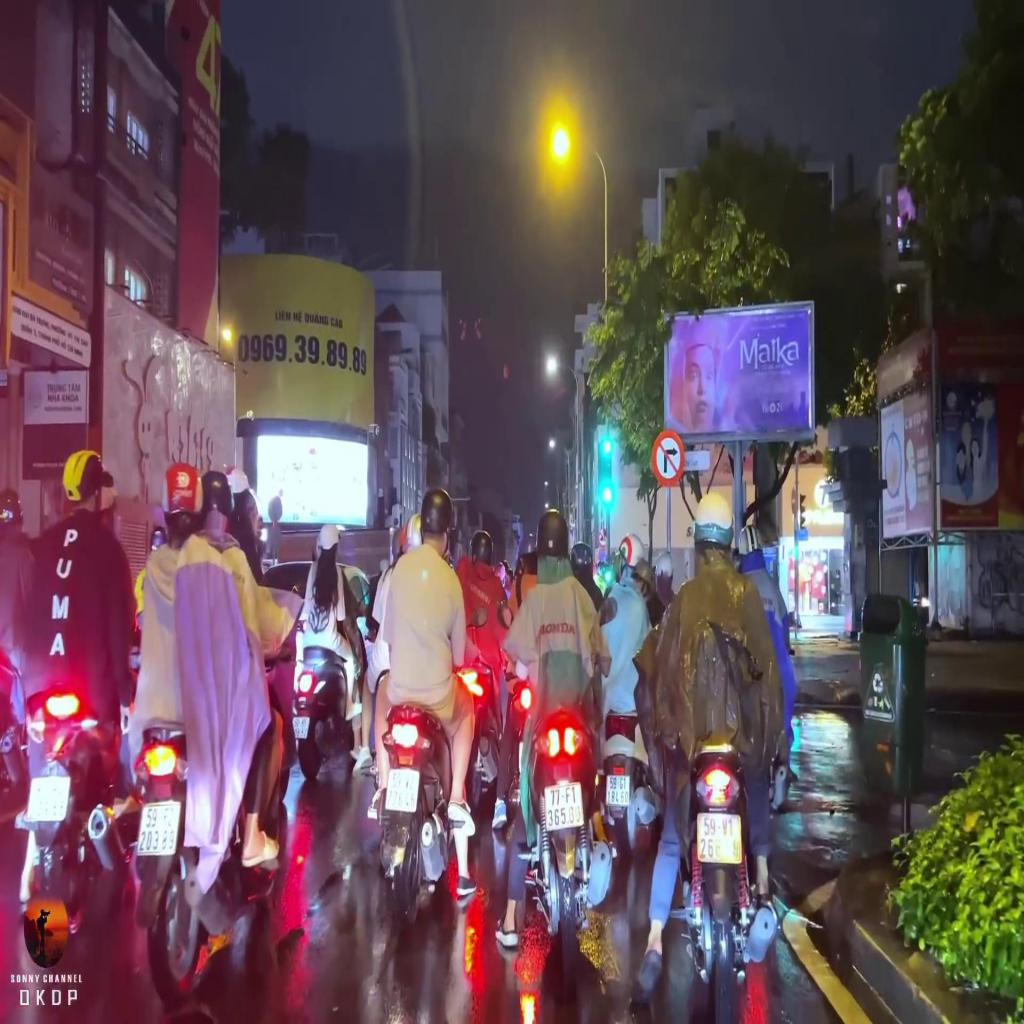cam_re_phai: (650, 426, 687, 486)
